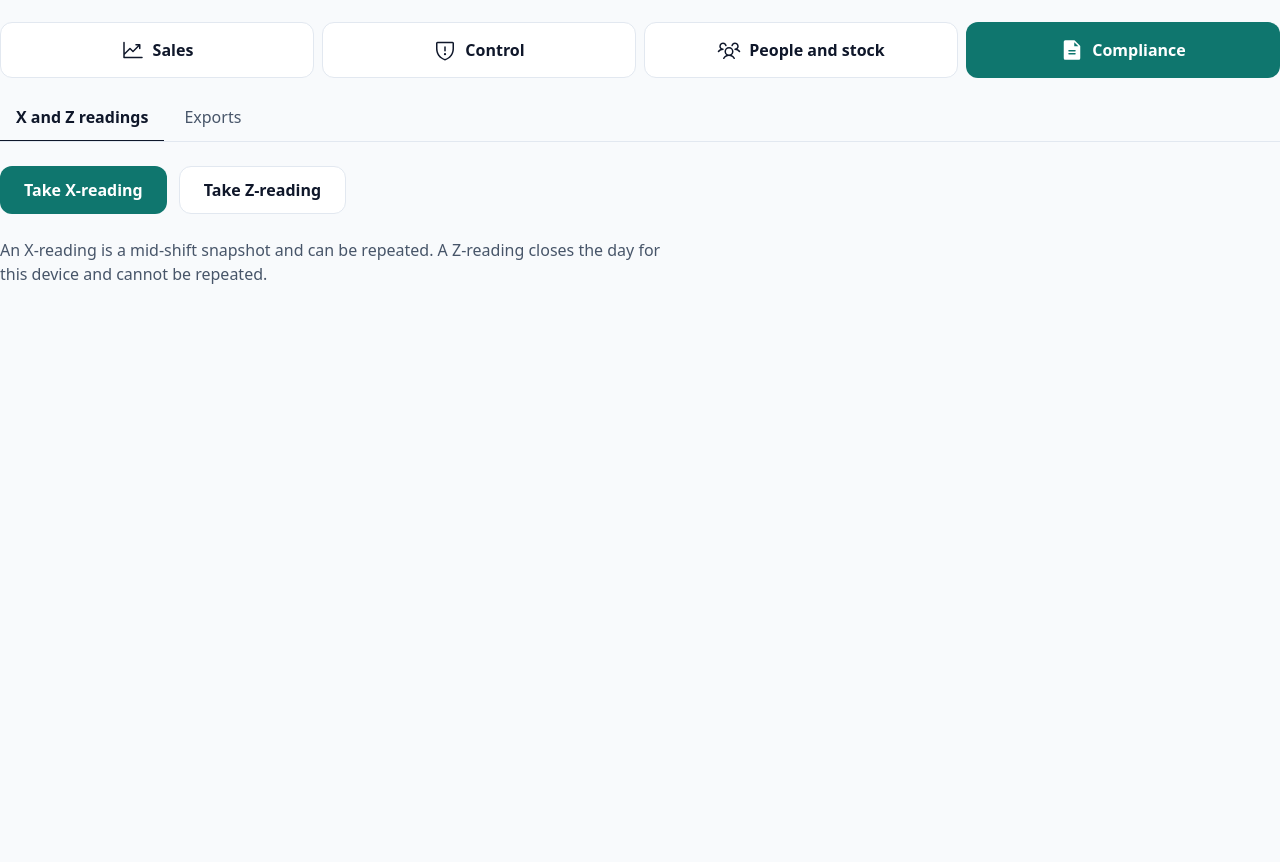
Scenario: X and Z readings › takes the Z-reading once confirmed and labels it as end of day
The width and height of the screenshot is (1280, 862).
Click the button "Take Z-reading" at (262, 190), box [179,166,346,214]
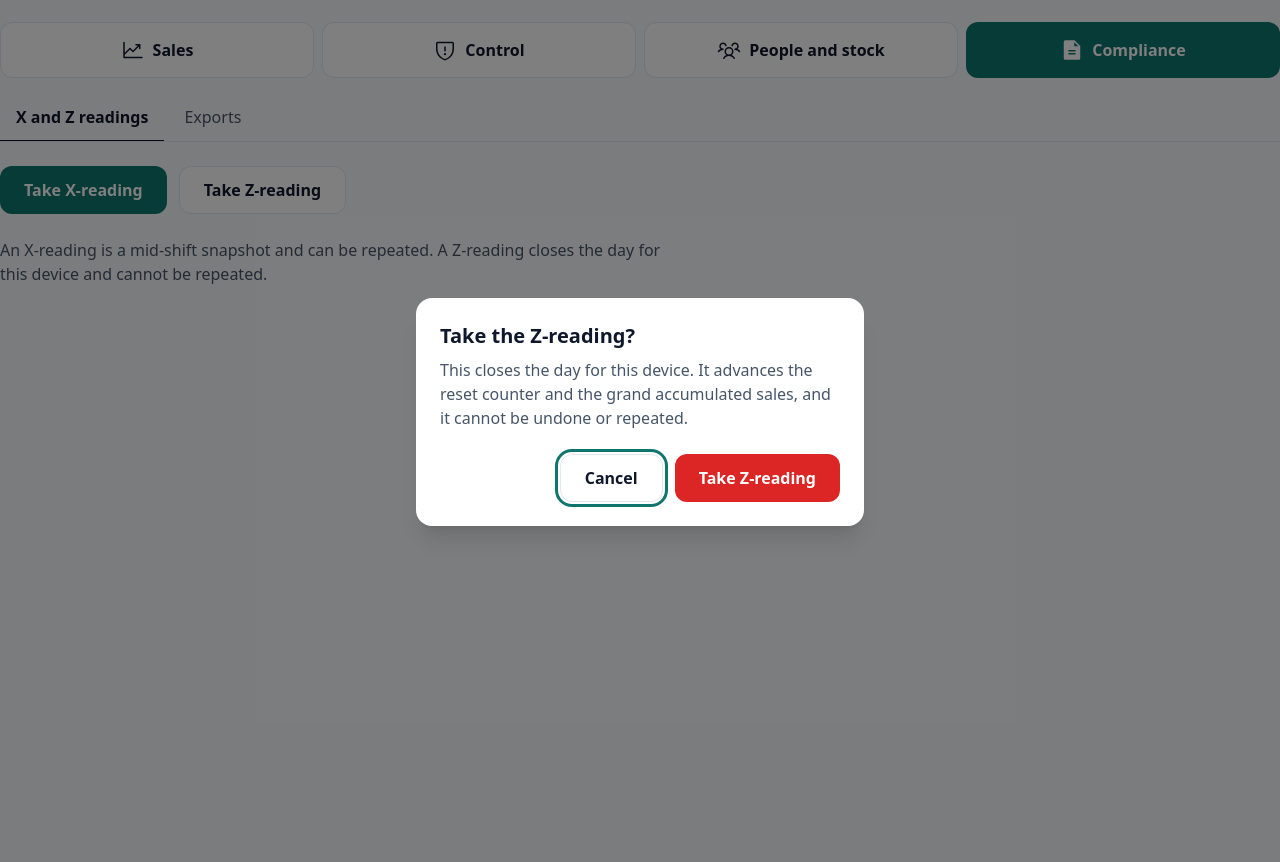
Click the button "Take Z-reading" at (757, 478), box [675,454,840,502]
(page scrolled)
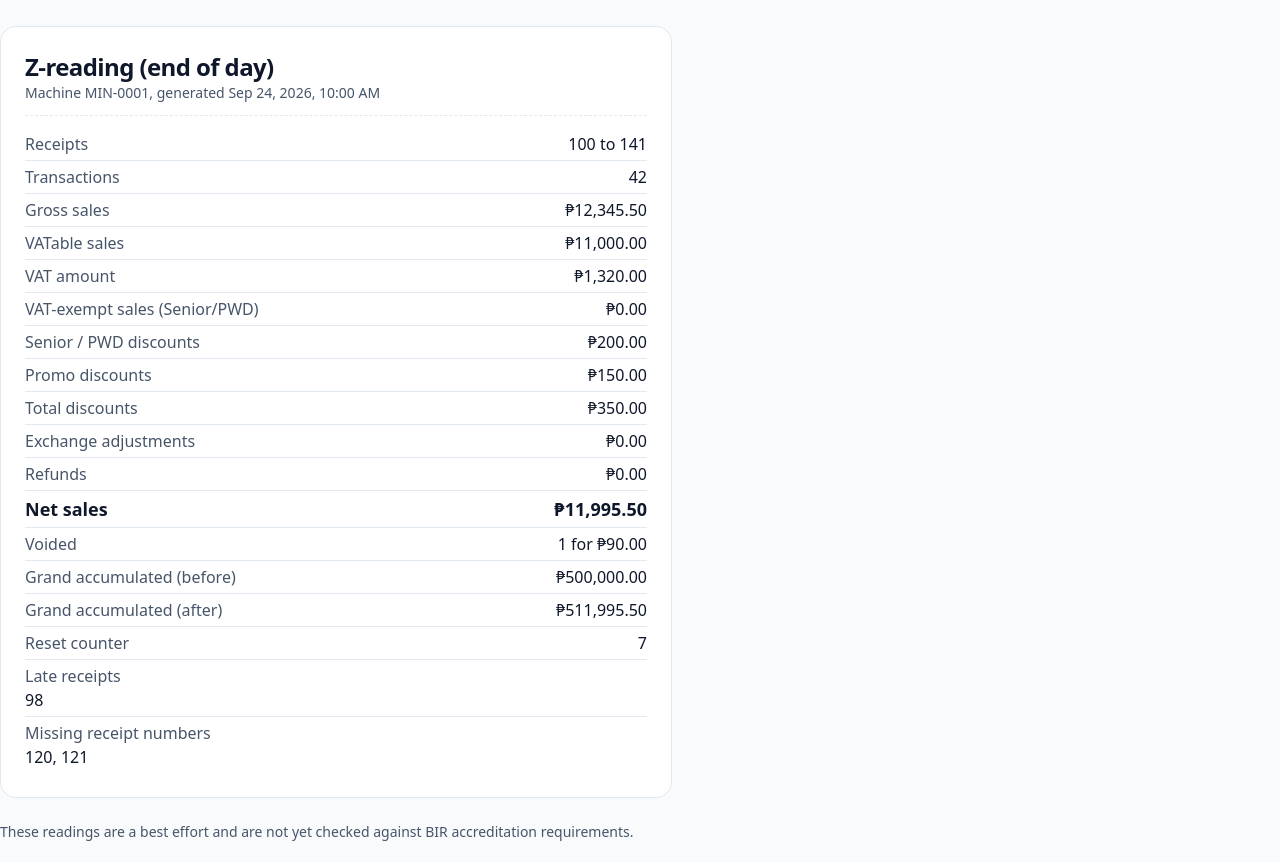
Now the element "Z-reading" is shown, box [0,26,672,798]
